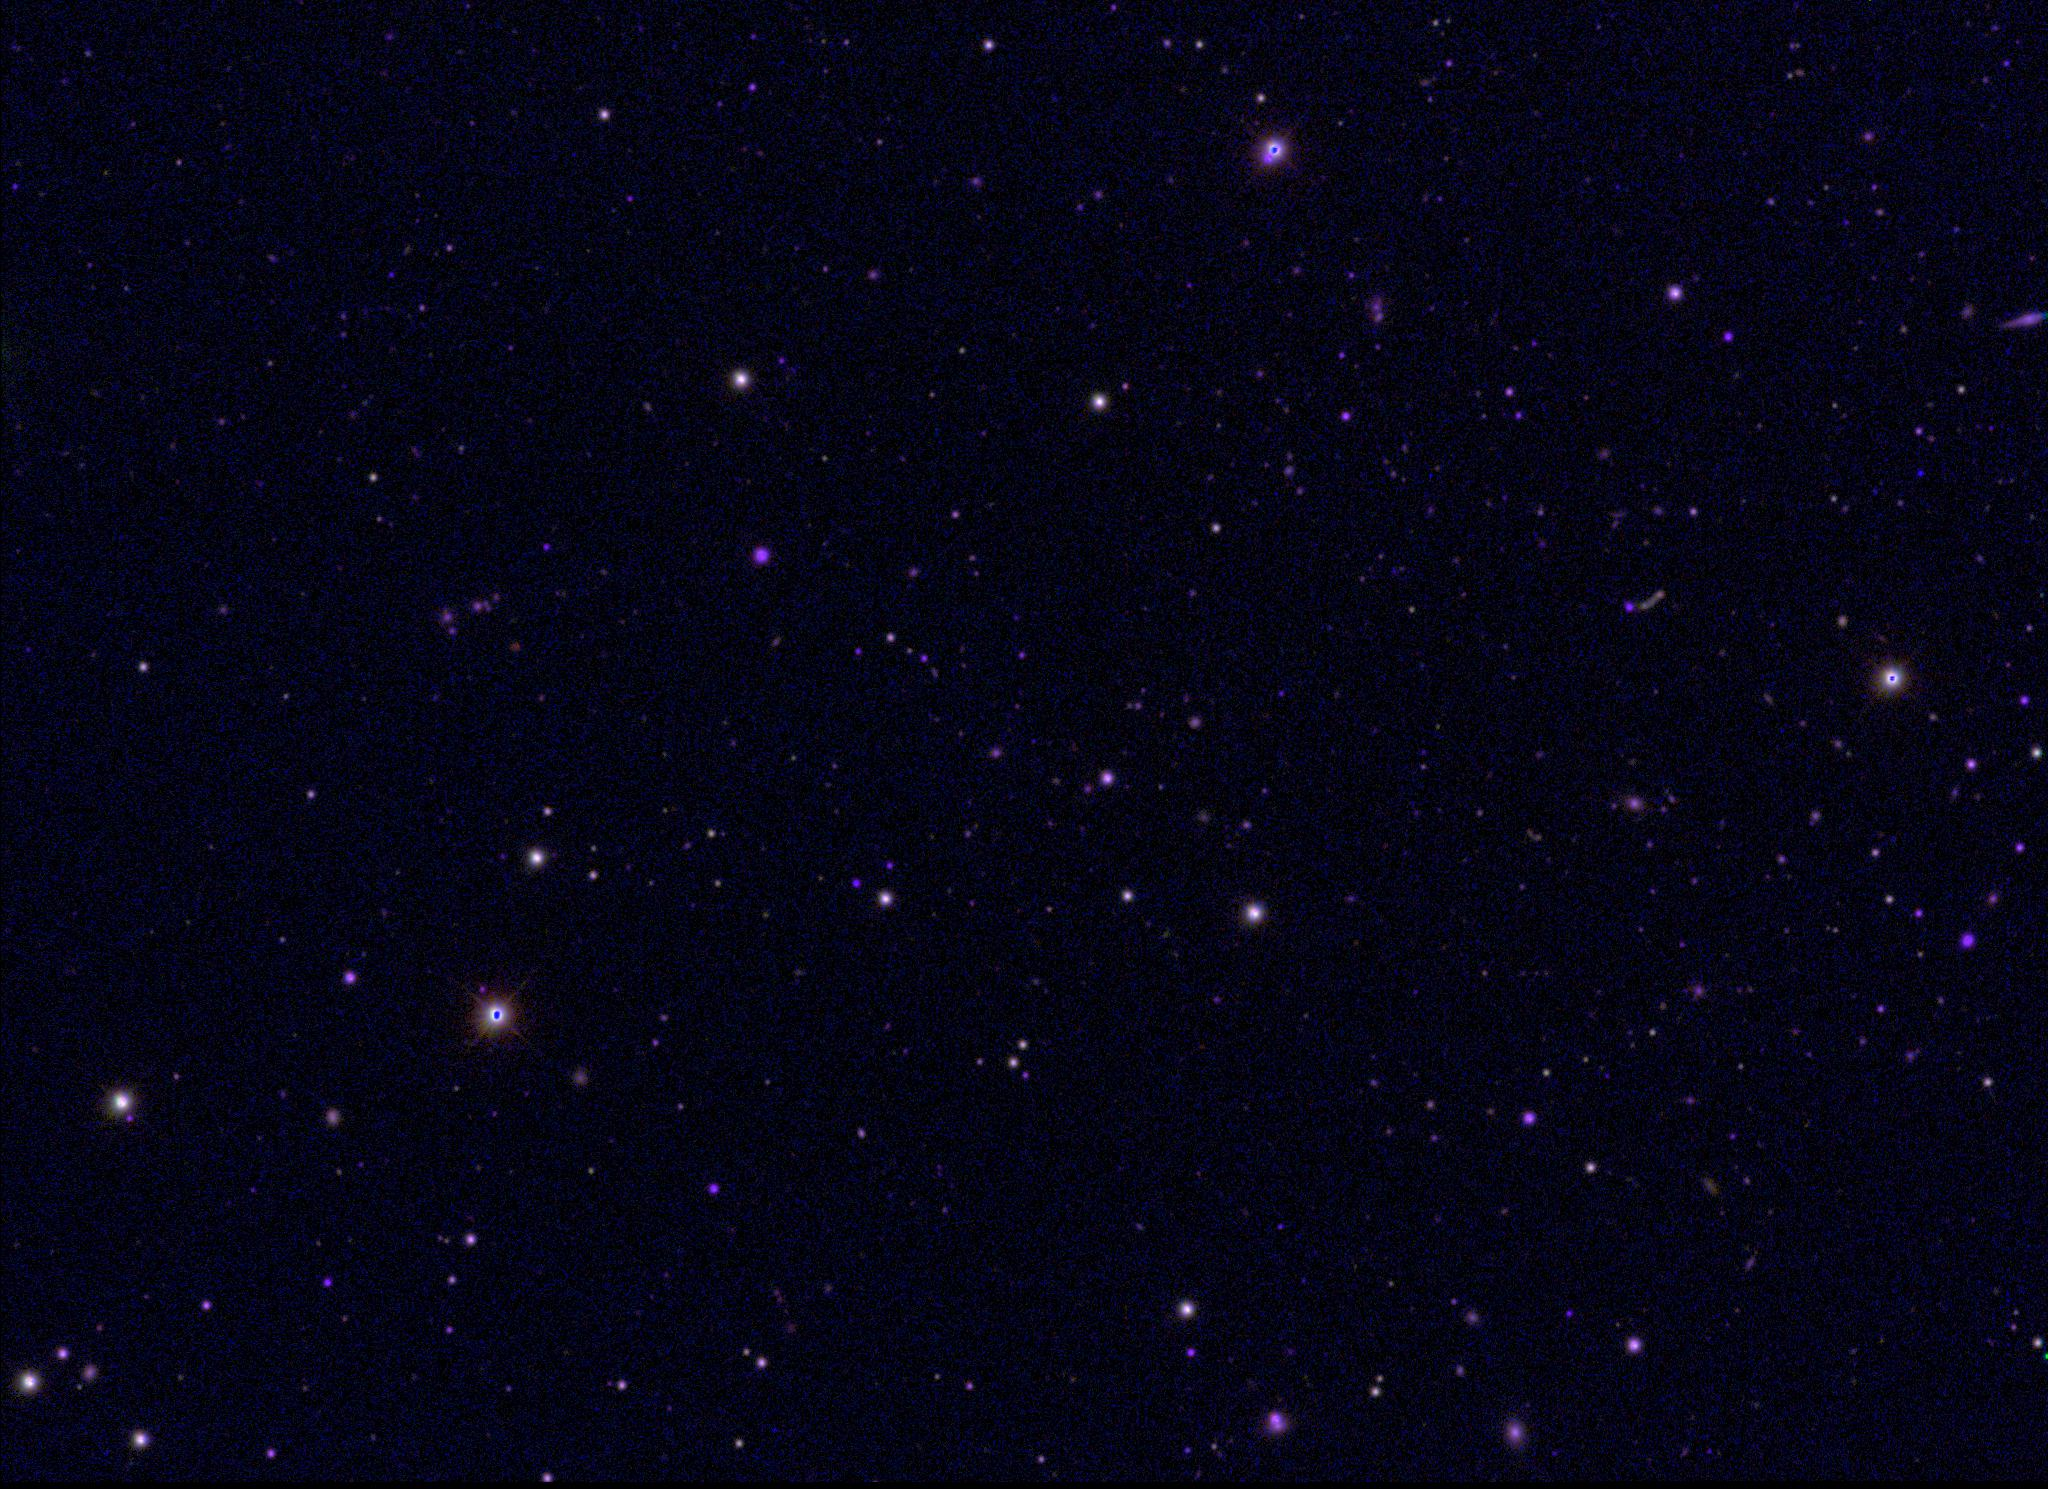L: (1913, 466, 1927, 480)
